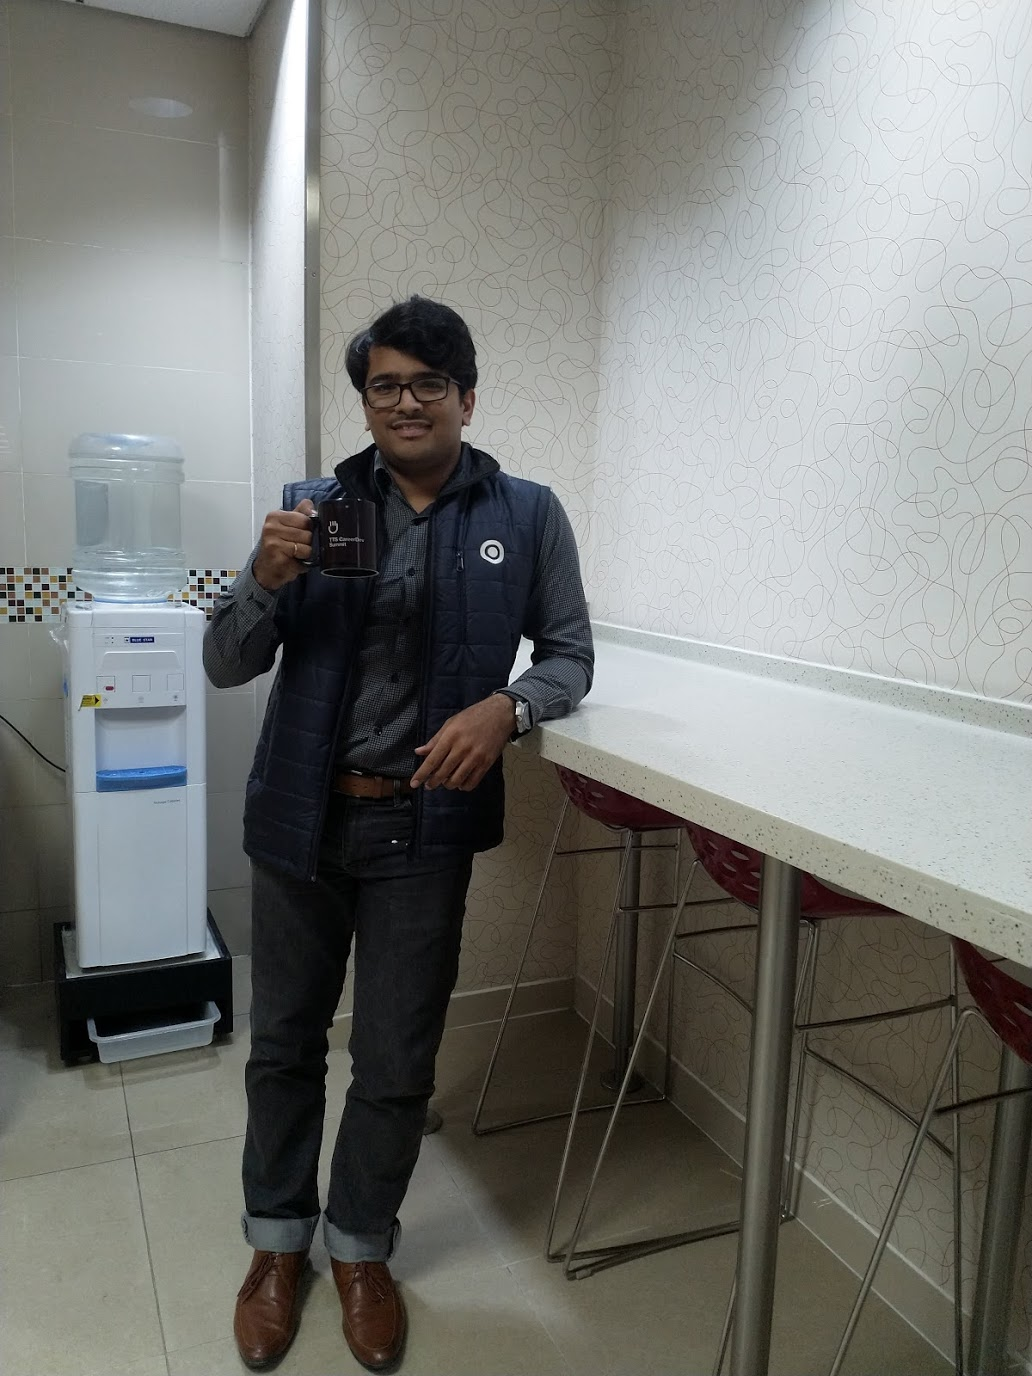bullseye: (473, 532, 516, 571)
